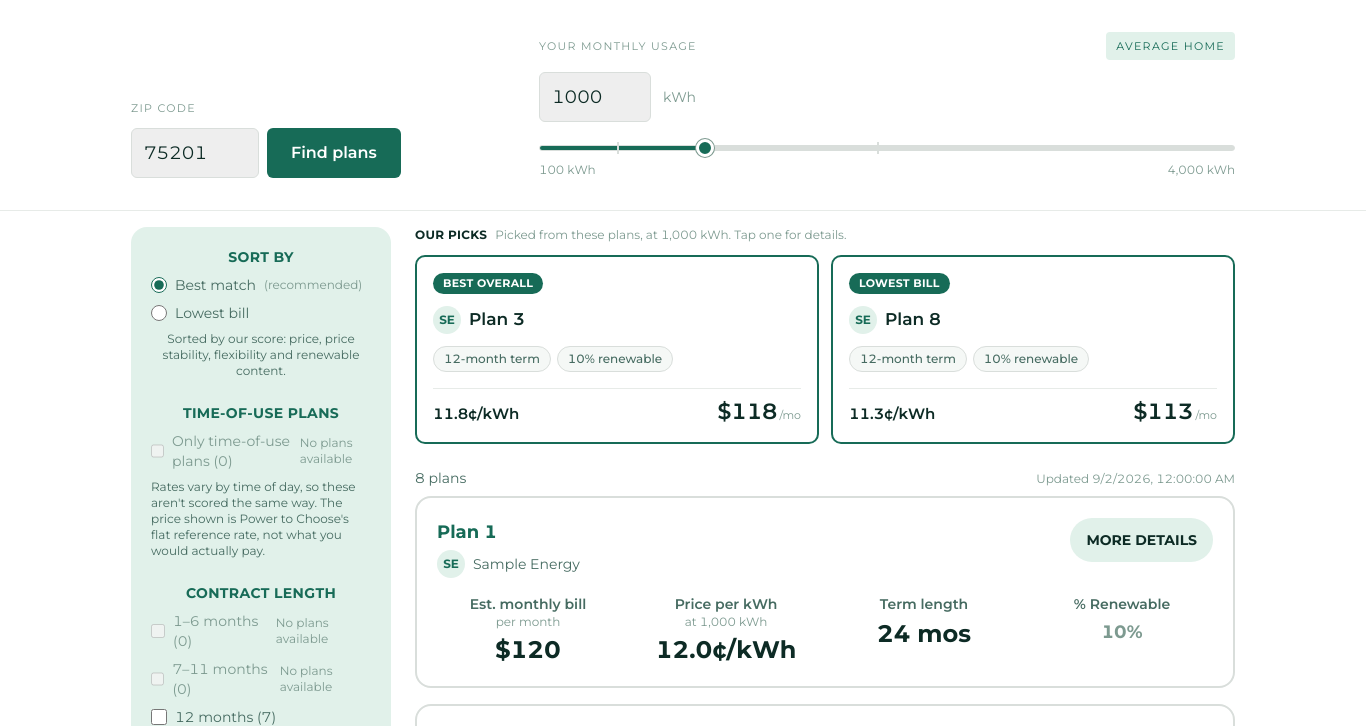
Test: OurPicks in the page › sits above the plan list on page 1, picks from the ranked list, and opens the details modal
Expected: the heading "Plan 3" is shown, [469,308,525,331]
Expected: the text "Best overall" is shown, [433,273,543,294]
Click the button with aria-label "Plan 3 by Sample Energy: Best overall. Details": (617, 349) [415,255,819,444]
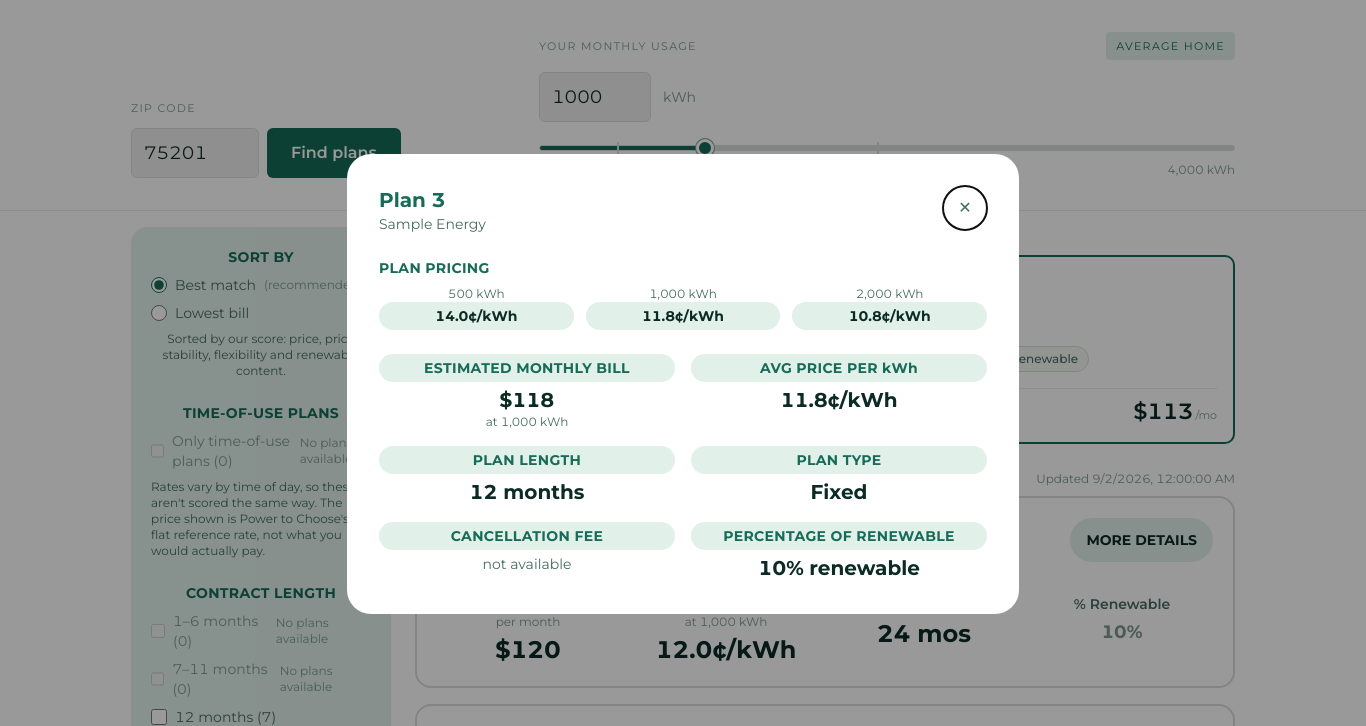
Result: the dialog "Plan 3" is shown at [347,154,1019,614]
